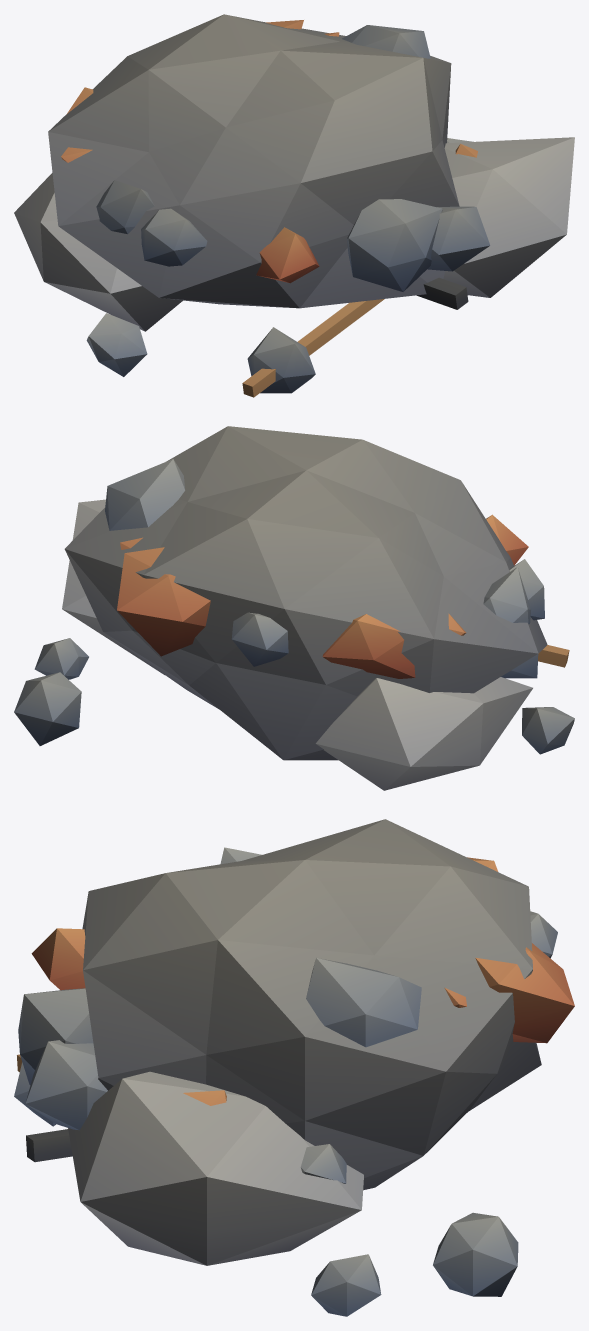
File: res_ore_iron.glb
3 renders of one model, top to bottom at view 1: azimuth 30°, elevation 25°; view 2: azimuth 150°, elevation 25°; view 3: azimuth 270°, elevation 25°, orthographic. The views are drawn at different scales.
Parts seen in each view (by area): view 1: res_ore_iron; view 2: res_ore_iron; view 3: res_ore_iron.
Boxes of the visible parts, x1=… form: res_ore_iron: x1=14, y1=14, x2=574, y2=397; res_ore_iron: x1=14, y1=426, x2=574, y2=790; res_ore_iron: x1=14, y1=819, x2=574, y2=1316.
Bounding box in the file's own units: 5.11 × 2.56 × 4.01.
1 material, 1 textured.
